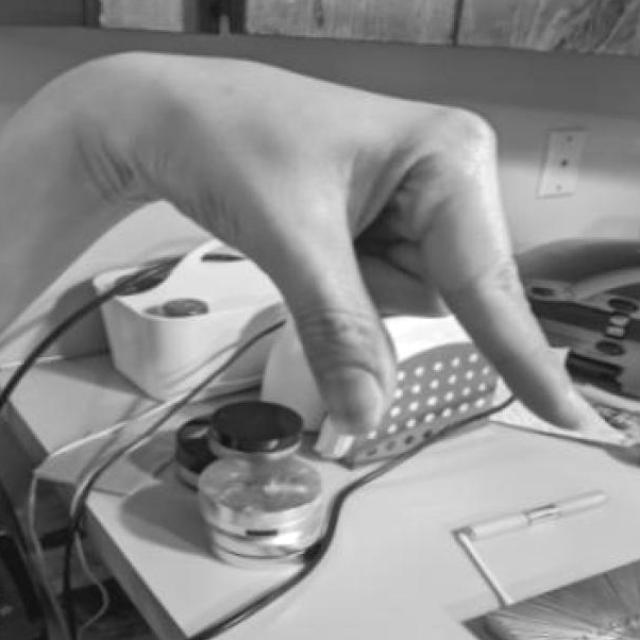Q: (112, 28, 608, 454)
